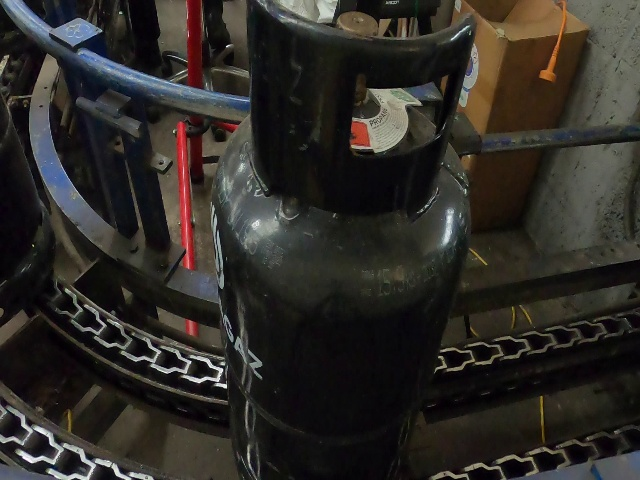gas_bottle: (2, 5, 631, 480)
